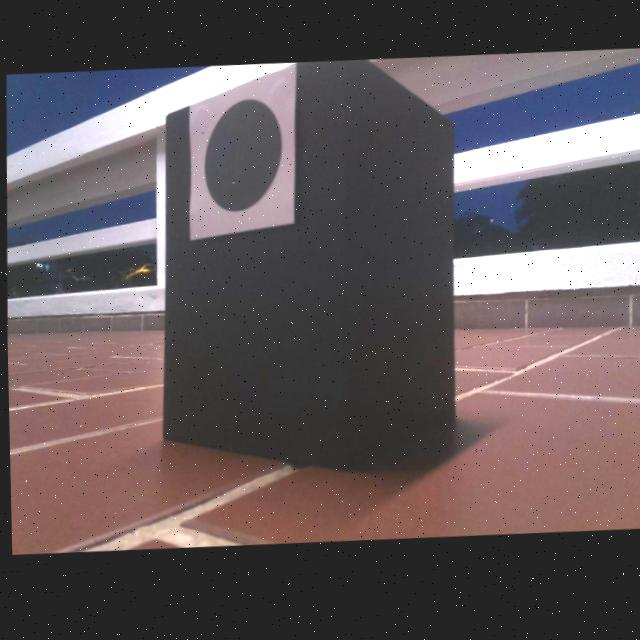CIRCLE: (199, 94, 285, 218)
